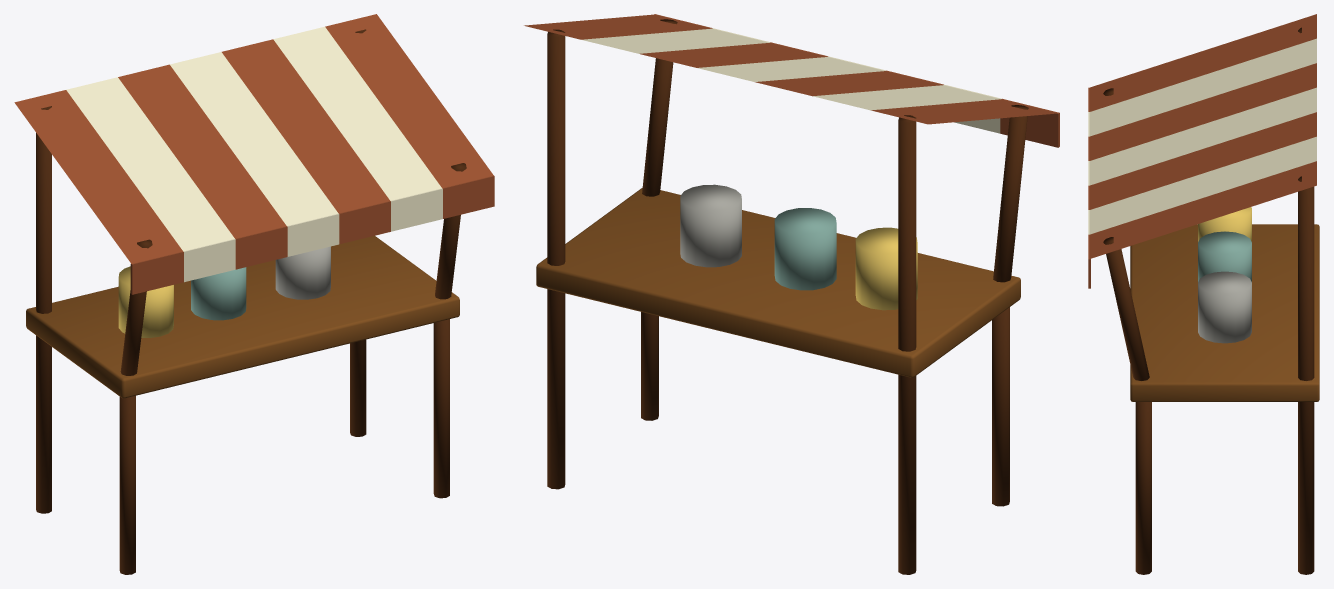
Rendered from shop.glb.
3 views of the same model, side by side, from view 1: azimuth 30°, elevation 25°; view 2: azimuth 150°, elevation 25°; view 3: azimuth 270°, elevation 25° (orthographic). The views are drawn at different scales.
Visible parts, largest first — view 1: table, aw1, aw2, aw4, aw5, aw3, aw6, aw0, leg.001, leg, leg.002, ware1 (+12 smaller); view 2: table, leg.001, leg.003, ware1, ware2, ware0, leg, fpost, aw1, aw2, aw5, aw3 (+6 smaller); view 3: table, leg.003, aw2, aw1, aw4, aw5, aw3, aw6, aw0, ware2, leg.002, fpost.001 (+2 smaller).
Part boxes in pixels (<box>): table: <box>26,235,459,398</box>; aw1: <box>66,77,234,251</box>; aw2: <box>118,64,286,238</box>; aw4: <box>222,39,389,213</box>; aw5: <box>273,26,441,200</box>; aw3: <box>170,52,338,225</box>; aw6: <box>325,14,493,188</box>; aw0: <box>14,90,182,263</box>; leg.001: <box>36,106,51,513</box>; leg: <box>119,395,135,574</box>; leg.002: <box>433,319,449,498</box>; ware1: <box>191,267,246,320</box>; table: <box>536,188,1020,377</box>; leg.001: <box>898,115,916,574</box>; leg.003: <box>547,29,565,489</box>; ware1: <box>774,208,836,290</box>; ware2: <box>680,184,741,267</box>; ware0: <box>855,227,917,310</box>; leg: <box>992,307,1009,506</box>; fpost: <box>993,105,1028,282</box>; aw1: <box>813,85,1000,110</box>; aw2: <box>755,71,942,96</box>; aw5: <box>581,28,769,53</box>; aw3: <box>697,57,884,81</box>; table: <box>1130,224,1319,401</box>; leg.003: <box>1298,176,1314,574</box>; aw2: <box>1089,63,1316,160</box>; aw1: <box>1089,38,1316,136</box>; aw4: <box>1089,112,1316,209</box>; aw5: <box>1089,136,1316,234</box>; aw3: <box>1089,87,1316,185</box>; aw6: <box>1089,161,1316,258</box>; aw0: <box>1089,14,1316,111</box>; ware2: <box>1198,271,1251,343</box>; leg.002: <box>1135,402,1151,574</box>; fpost.001: <box>1103,237,1149,380</box>.
Bounding box in the file's own units: 1.5 × 1.62 × 0.855.
